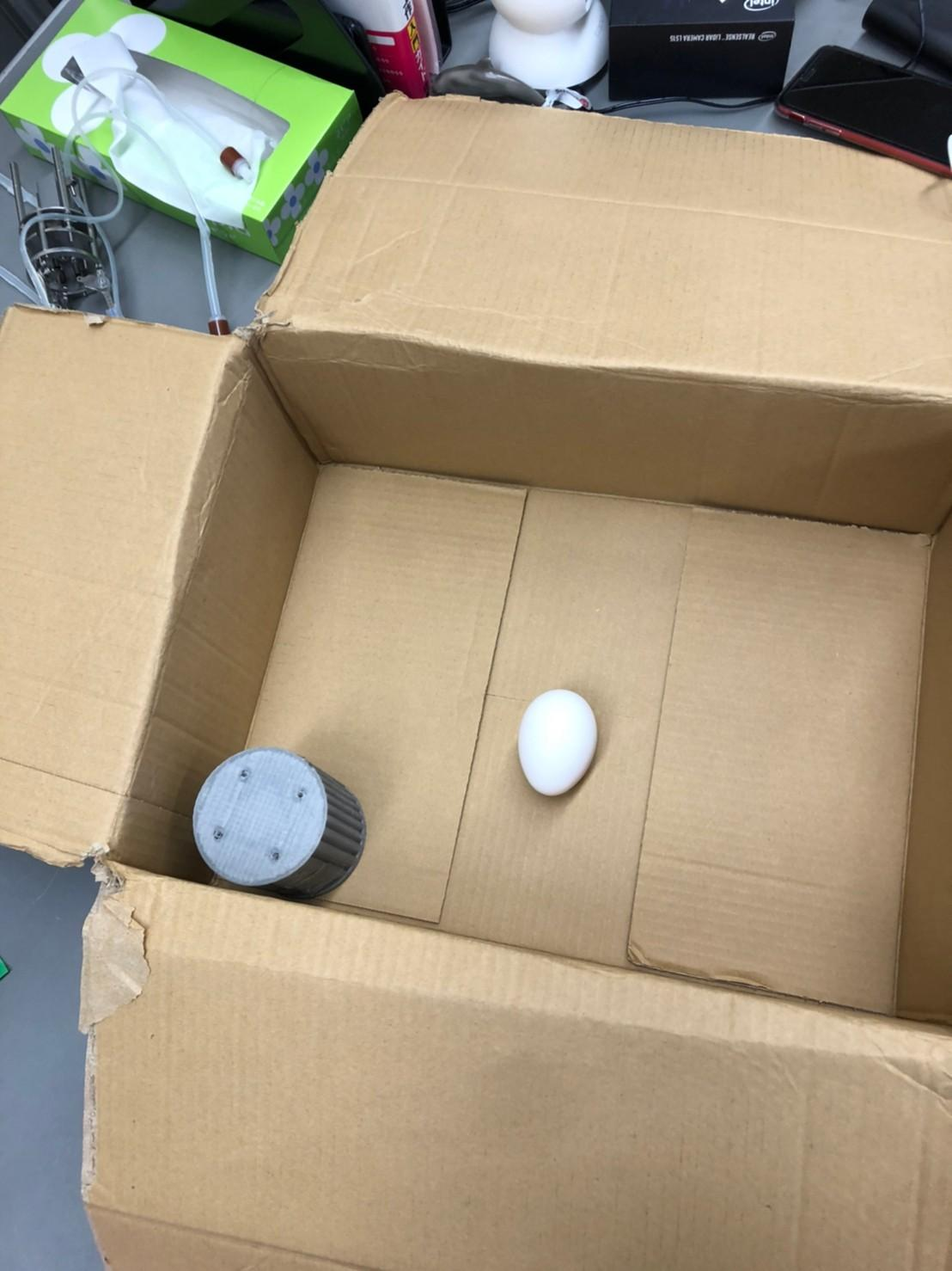egg: (510, 678, 604, 799)
